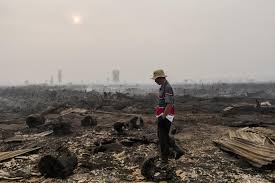smoke: (12, 18, 231, 60)
